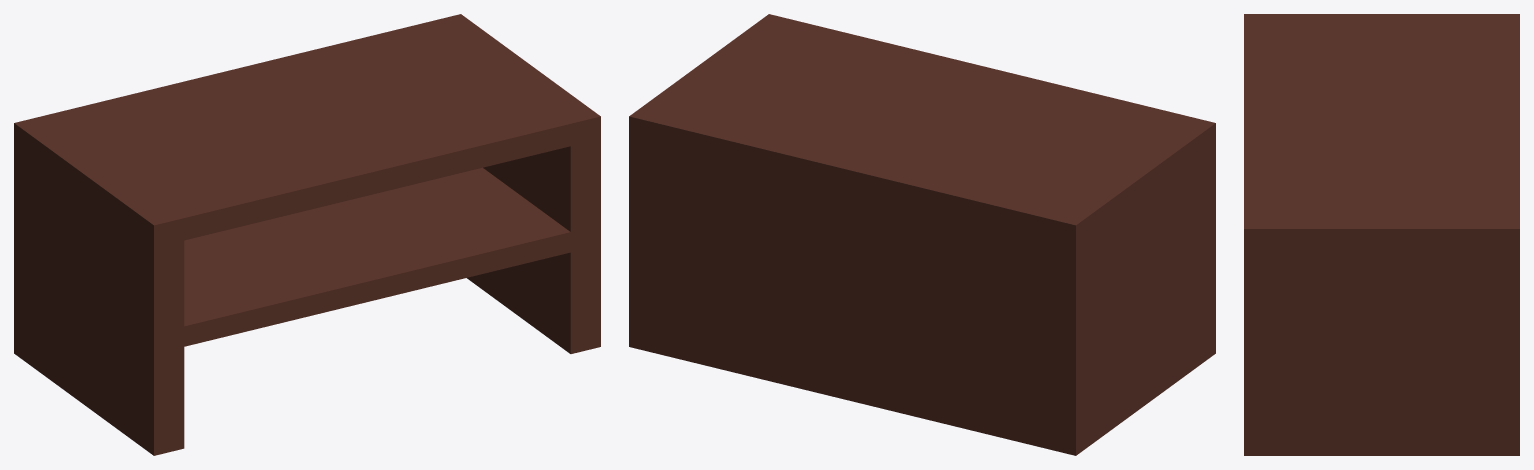
Rendered from SM_Workbench_03.fbx.
The picture shows the model from 3 angles, left to right: view 1: azimuth 30°, elevation 25°; view 2: azimuth 150°, elevation 25°; view 3: azimuth 270°, elevation 25°; orthographic projection.
Visible parts, largest first — view 1: Workbench; view 2: Workbench; view 3: Workbench.
Part boxes in pixels (left/top/right/bottom): Workbench: left=14, top=14, right=600, bottom=455; Workbench: left=629, top=14, right=1215, bottom=455; Workbench: left=1244, top=14, right=1519, bottom=455.
Bounding box in the file's own units: 1.52 × 0.8254 × 0.7502.
